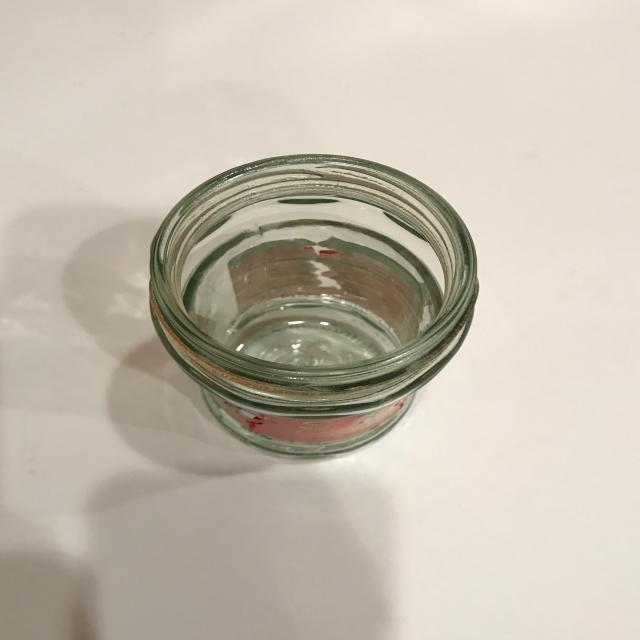glass: (144, 151, 485, 465)
